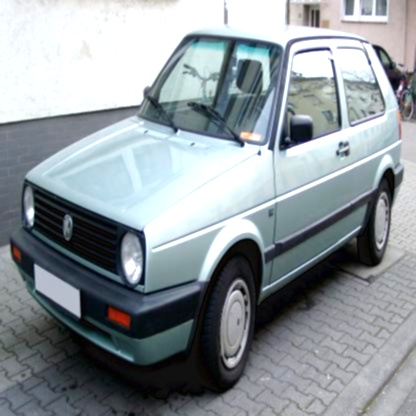Vehicle: (7, 28, 406, 394)
